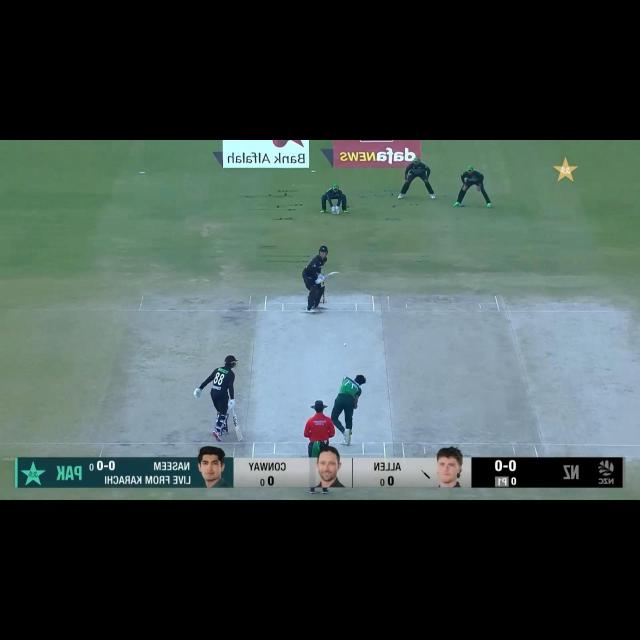bat: (232, 414, 243, 444), (320, 270, 340, 277)
toe: (235, 433, 244, 442), (335, 270, 340, 278)
